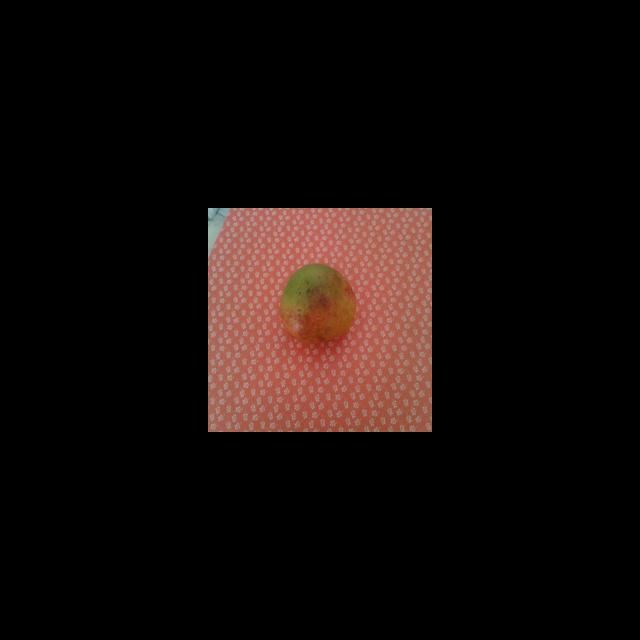Mango: (279, 262, 356, 344)
